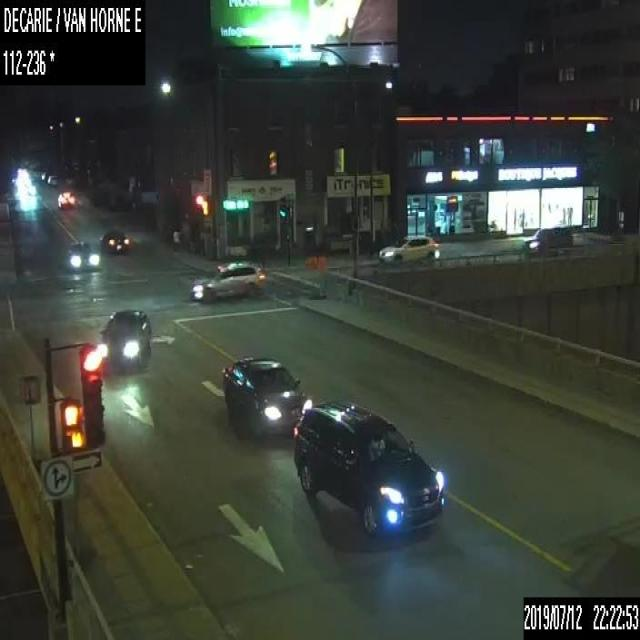construction: (19, 375, 45, 471), (304, 254, 316, 298), (316, 252, 326, 298)
vehicle: (293, 401, 444, 532), (221, 356, 313, 438), (99, 308, 153, 372), (188, 261, 263, 300), (377, 233, 439, 260), (524, 224, 572, 253), (66, 242, 98, 270), (100, 229, 129, 252), (56, 189, 76, 208), (46, 174, 58, 185)
